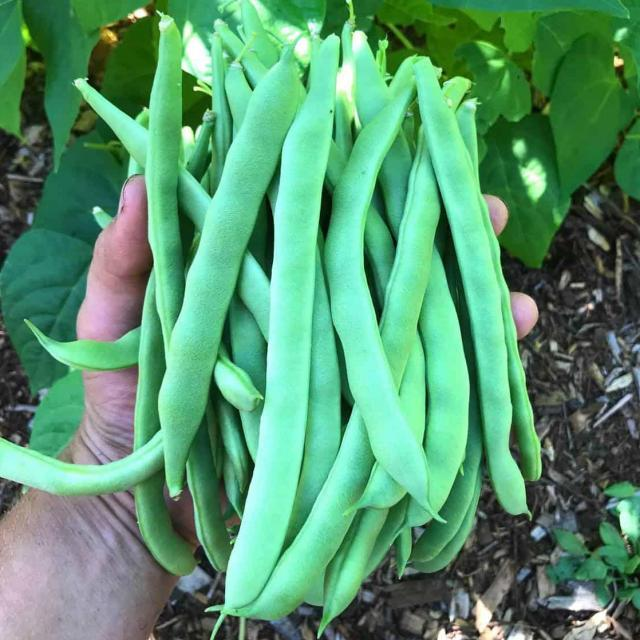Beans: (0, 12, 569, 634)
